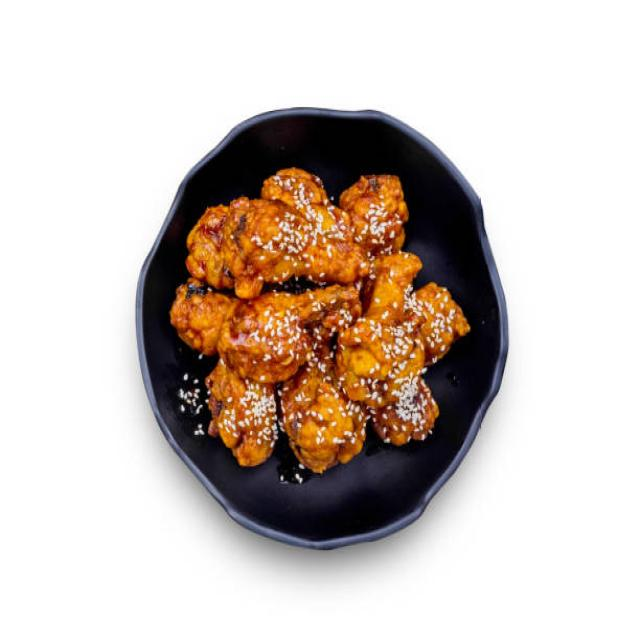Frango: (168, 163, 473, 474)
